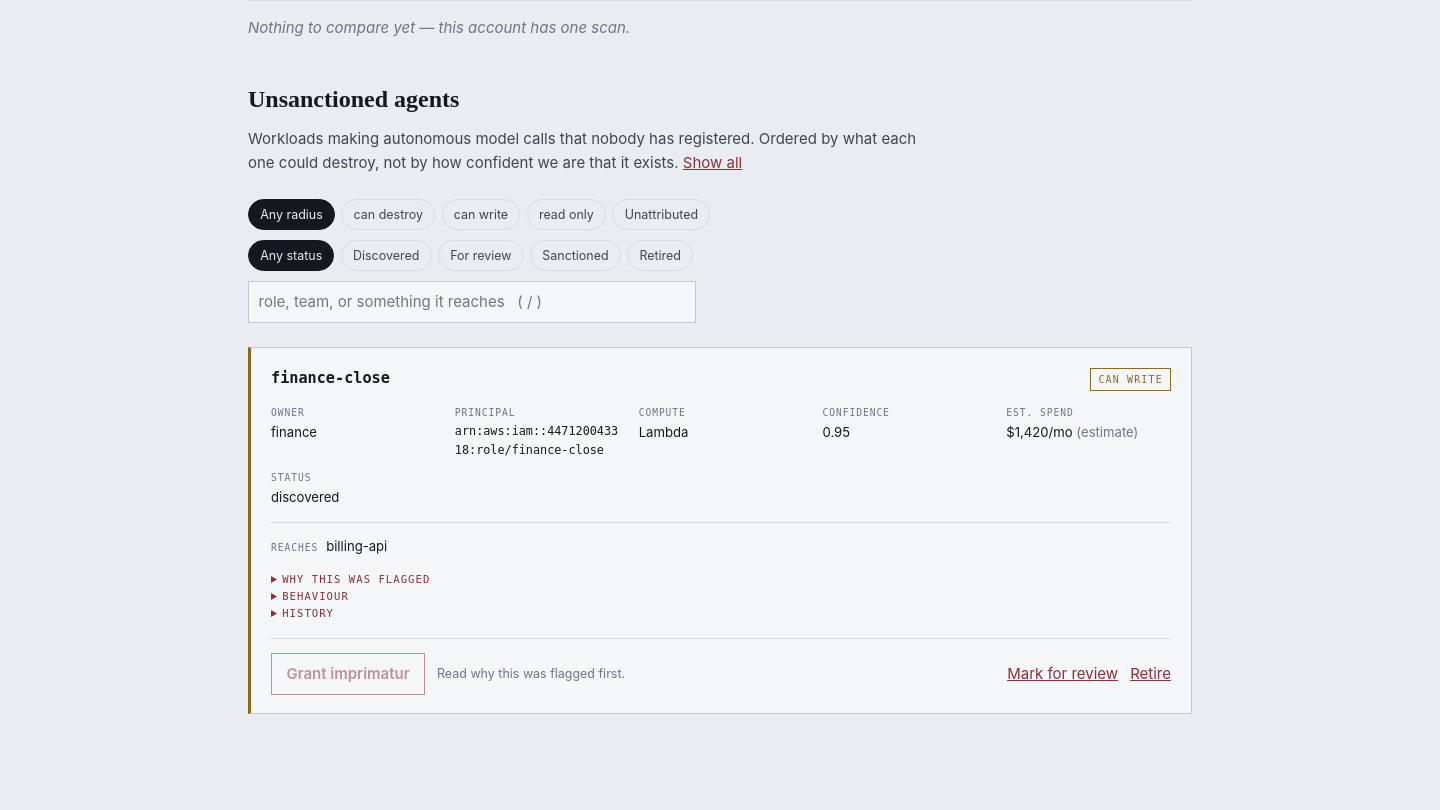
Test: retiring an agent › asks why before it does anything
(page scrolled)
Expected: the heading "finance-close" is shown, [271,366,390,390]
Step 1. Click the button "Retire" → [1151, 674], box [1130,662,1171,686]
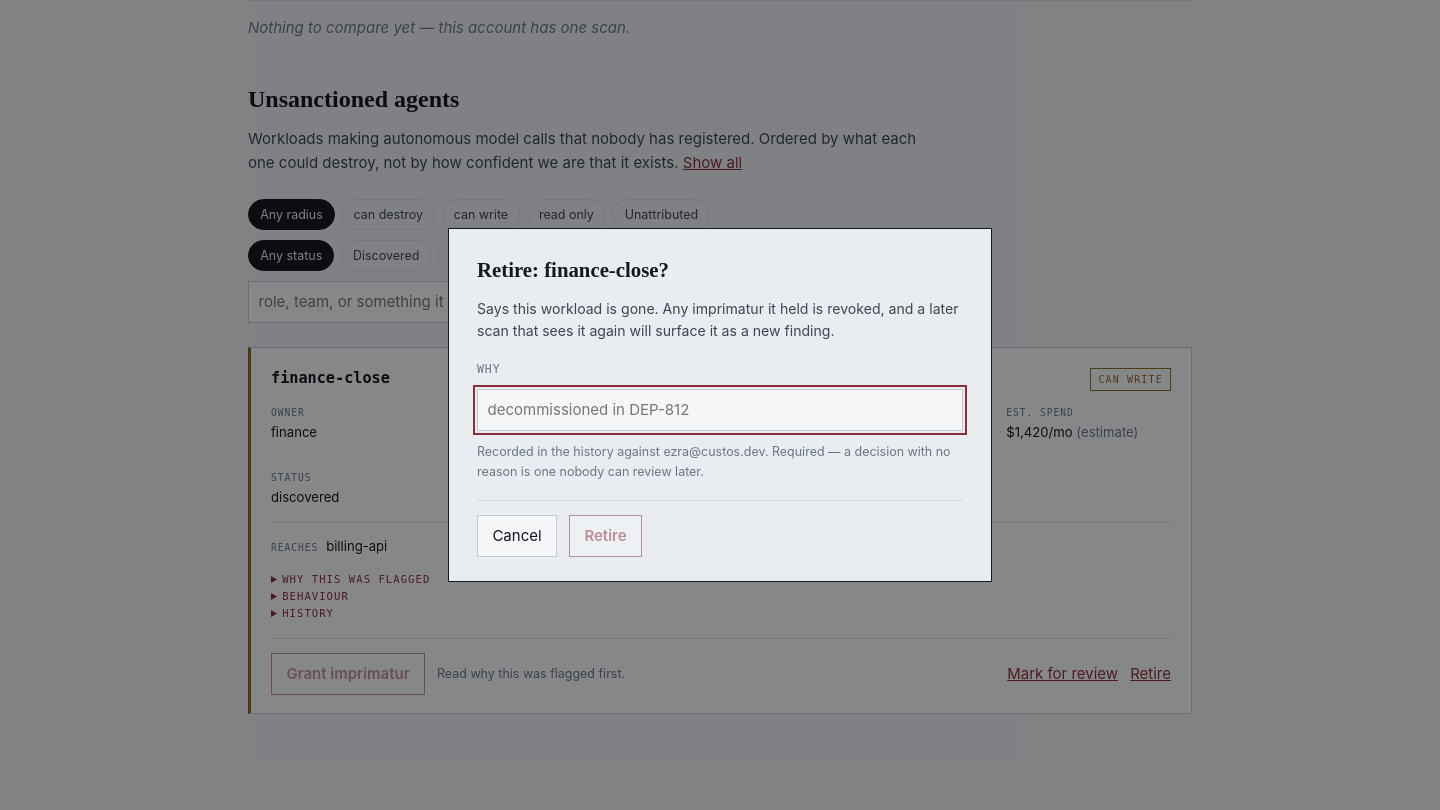
Result: the dialog is shown at [448,228,992,582]
